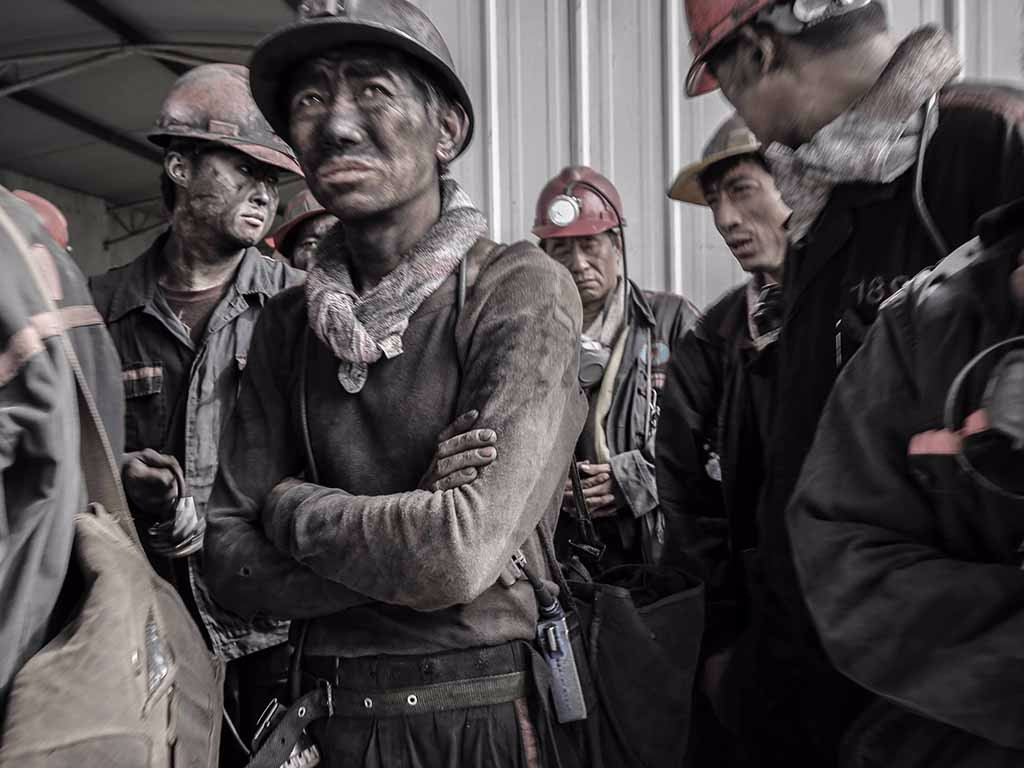helmet: (525, 157, 645, 309)
